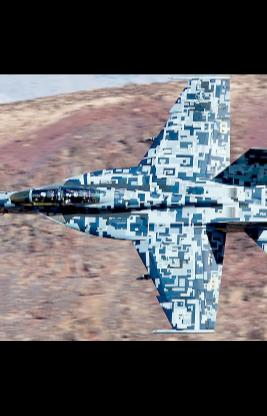F15: (0, 75, 266, 334)
